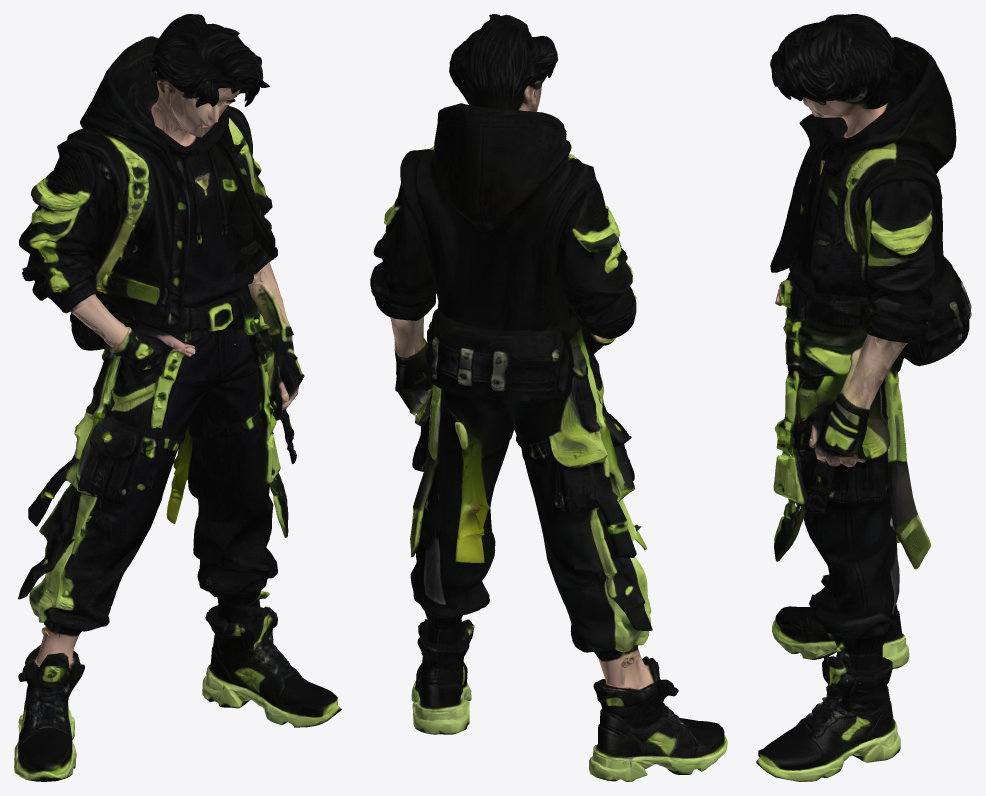
Rendered from kiran.glb.
The picture shows the model from 3 angles, left to right: view 1: azimuth 30°, elevation 25°; view 2: azimuth 150°, elevation 25°; view 3: azimuth 270°, elevation 25°; orthographic projection. The views are drawn at different scales.
Parts seen in each view (by area): view 1: model; view 2: model; view 3: model.
Part boxes in pixels (<box>): model: <box>14,14,341,781</box>; model: <box>370,14,727,781</box>; model: <box>756,14,971,781</box>.
Size of the model in its own units: 0.8681 by 1.9 by 0.5173.
Materials: 1 (1 with a texture image).
